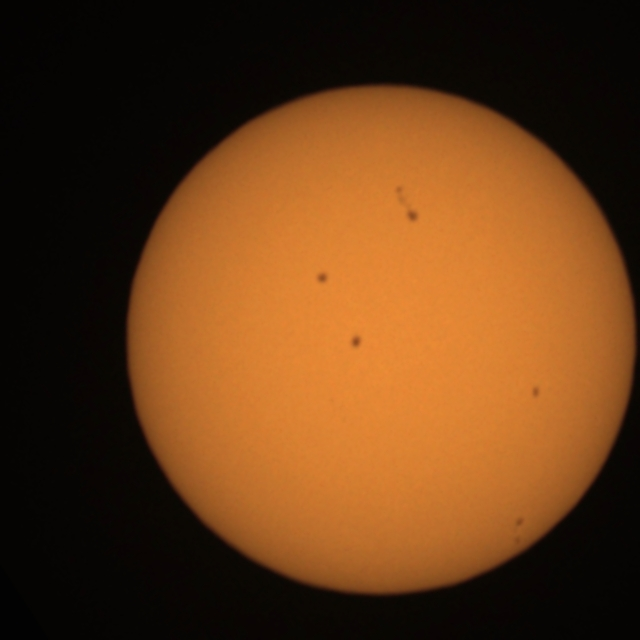sunspot: (393, 183, 419, 226), (511, 514, 526, 547), (404, 207, 421, 225), (348, 333, 364, 352), (314, 270, 330, 287), (530, 384, 542, 401), (513, 515, 526, 530)
